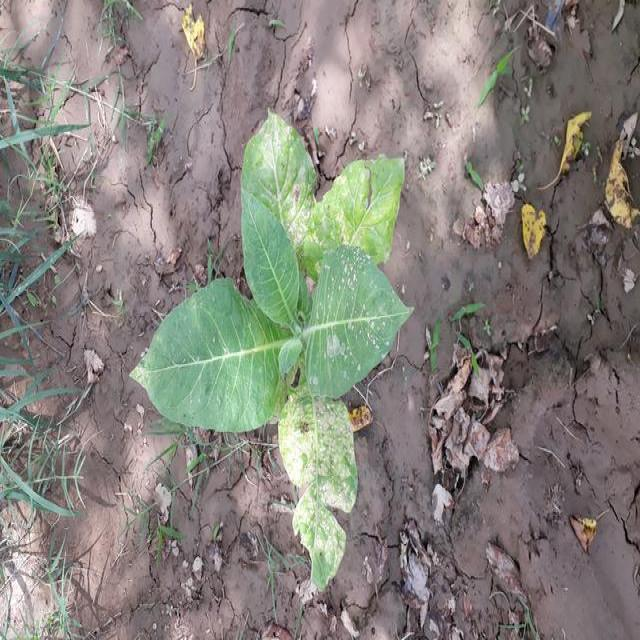crop: (132, 116, 415, 594)
